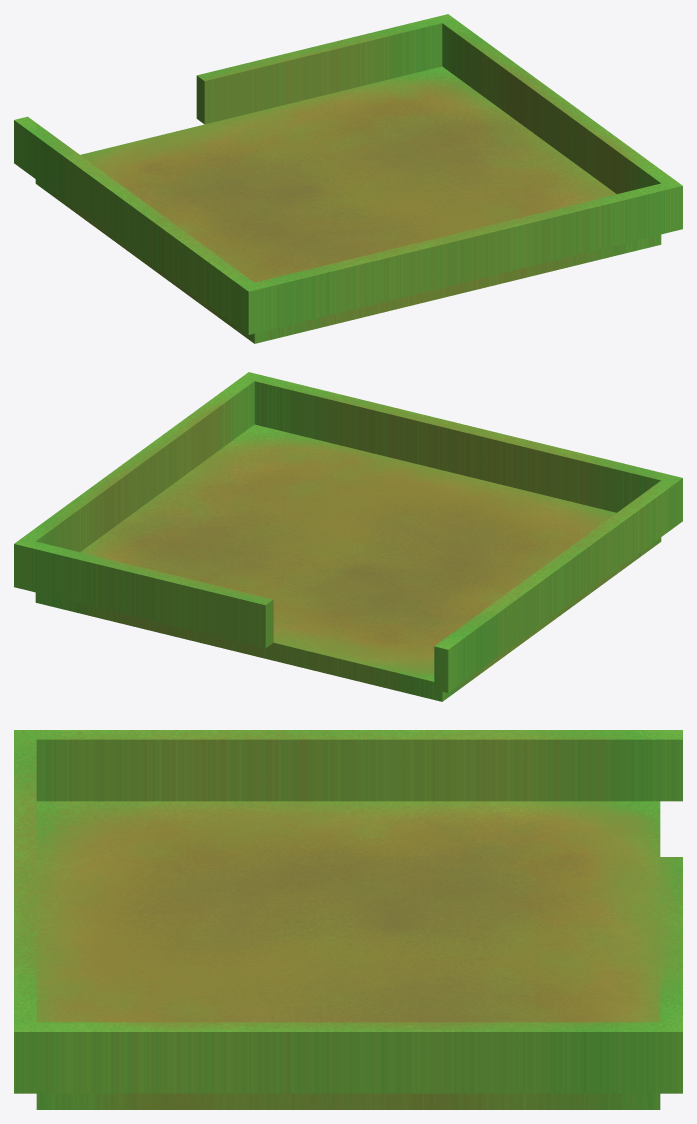
The model's file is Ground2.obj.
3 views of the same model, one above another, from view 1: azimuth 30°, elevation 25°; view 2: azimuth 150°, elevation 25°; view 3: azimuth 270°, elevation 25° (orthographic). The views are drawn at different scales.
Parts seen in each view (by area): view 1: Cube_Cube.006; view 2: Cube_Cube.006; view 3: Cube_Cube.006.
Boxes of the visible parts, left/top/right/bottom form: Cube_Cube.006: left=14, top=14, right=682, bottom=343; Cube_Cube.006: left=14, top=372, right=682, bottom=701; Cube_Cube.006: left=14, top=730, right=682, bottom=1109.
Bounding box in the file's own units: 126 × 17 × 118.
Materials: 1 (1 with a texture image).
